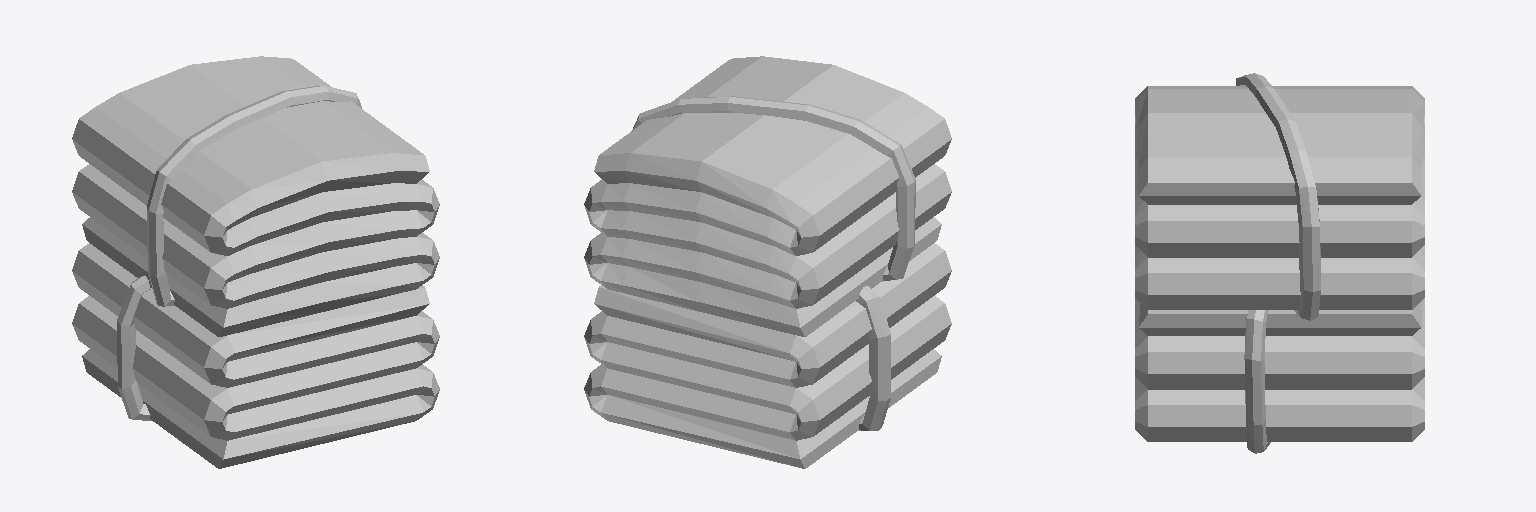
The model's file is Textiles_B.obj.
3 views of the same model, side by side, from view 1: azimuth 30°, elevation 25°; view 2: azimuth 150°, elevation 25°; view 3: azimuth 270°, elevation 25° (orthographic).
Visible parts, largest first — view 1: Textiles_B; view 2: Textiles_B; view 3: Textiles_B.
Part boxes in pixels (left/top/right/bottom): Textiles_B: left=72, top=56, right=439, bottom=468; Textiles_B: left=584, top=56, right=951, bottom=468; Textiles_B: left=1135, top=73, right=1424, bottom=453.
Bounding box in the file's own units: 0.8196 × 0.9318 × 0.8.